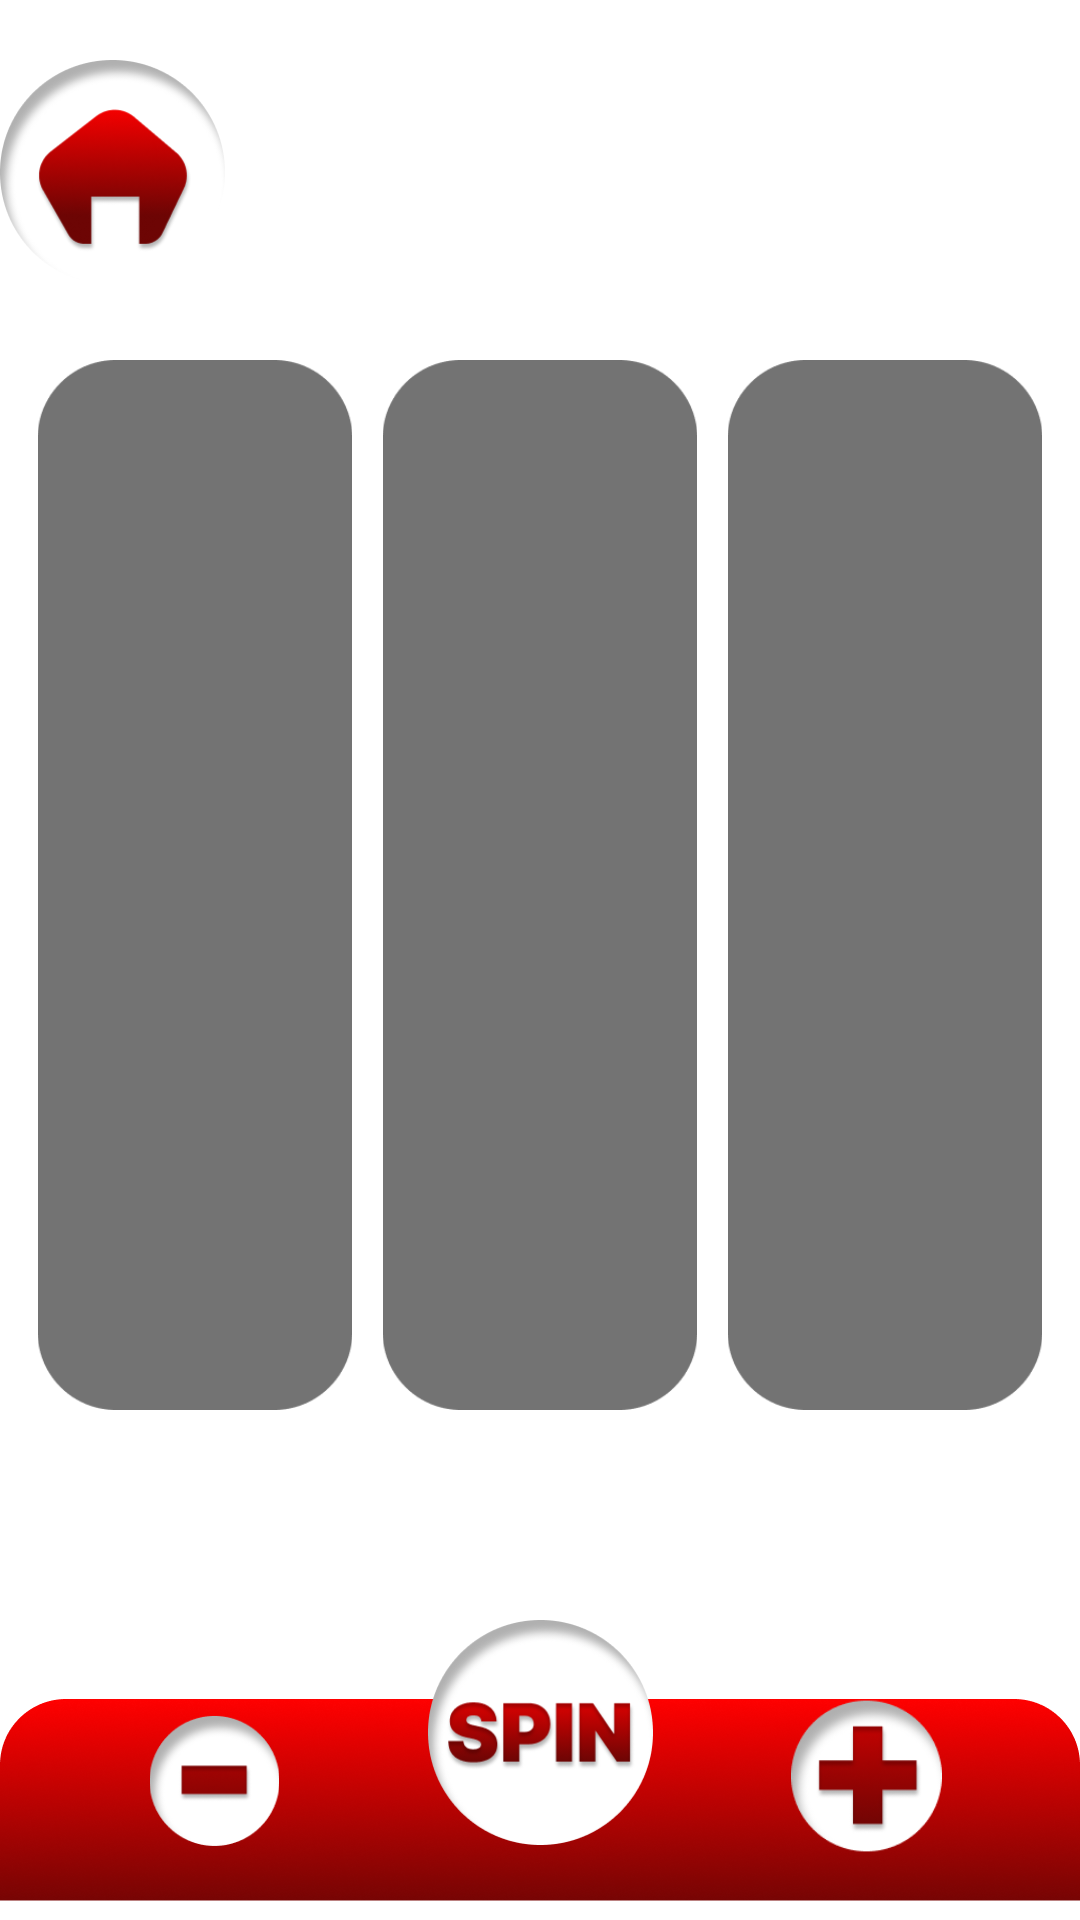

Locate icon controls on the screen. Image size 1080*1920, boxes as {"x1": x1, "y1": y1, "x2": x2, "y2": y2}.
home: {"x1": 0, "y1": 60, "x2": 220, "y2": 249}
